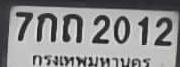0: (113, 15, 129, 43)
1: (137, 16, 147, 44)
2: (91, 14, 109, 43), (153, 16, 171, 45)
7: (15, 11, 32, 40)
A01: (36, 12, 56, 41)
A22: (62, 13, 82, 42)
